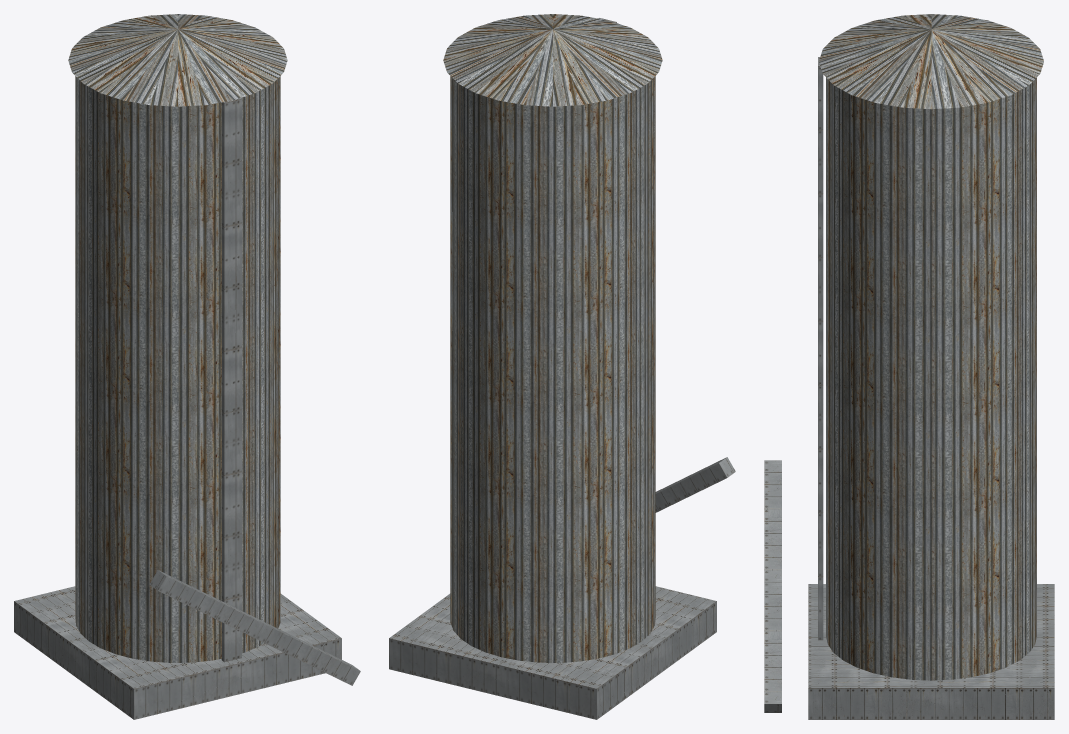
The model's file is farm-silo-single_lod0.gltf.
3 views of the same model, side by side, from view 1: azimuth 30°, elevation 25°; view 2: azimuth 150°, elevation 25°; view 3: azimuth 270°, elevation 25° (orthographic). The views are drawn at different scales.
Parts seen in each view (by area): view 1: farm-silo-single_cyl0, farm-silo-single_base, farm-silo-single__cap, farm-silo-single__ladder, farm-silo-single__auger; view 2: farm-silo-single_cyl0, farm-silo-single_base, farm-silo-single__cap, farm-silo-single__auger; view 3: farm-silo-single_cyl0, farm-silo-single__cap, farm-silo-single_base, farm-silo-single__auger, farm-silo-single__ladder.
Part boxes in pixels (x1,y1,x2,y2): farm-silo-single_cyl0: (75, 76, 280, 662); farm-silo-single_base: (14, 586, 341, 719); farm-silo-single__cap: (68, 14, 287, 106); farm-silo-single__ladder: (221, 98, 241, 662); farm-silo-single__auger: (149, 570, 360, 685); farm-silo-single_cyl0: (450, 76, 655, 662); farm-silo-single_base: (389, 586, 716, 719); farm-silo-single__cap: (443, 14, 662, 106); farm-silo-single__auger: (655, 457, 735, 512); farm-silo-single_cyl0: (826, 78, 1036, 680); farm-silo-single__cap: (819, 14, 1043, 109); farm-silo-single_base: (808, 584, 1054, 719); farm-silo-single__auger: (764, 460, 781, 712); farm-silo-single__ladder: (818, 57, 823, 640).
Size of the model in its own units: 7 by 20 by 8.25.
